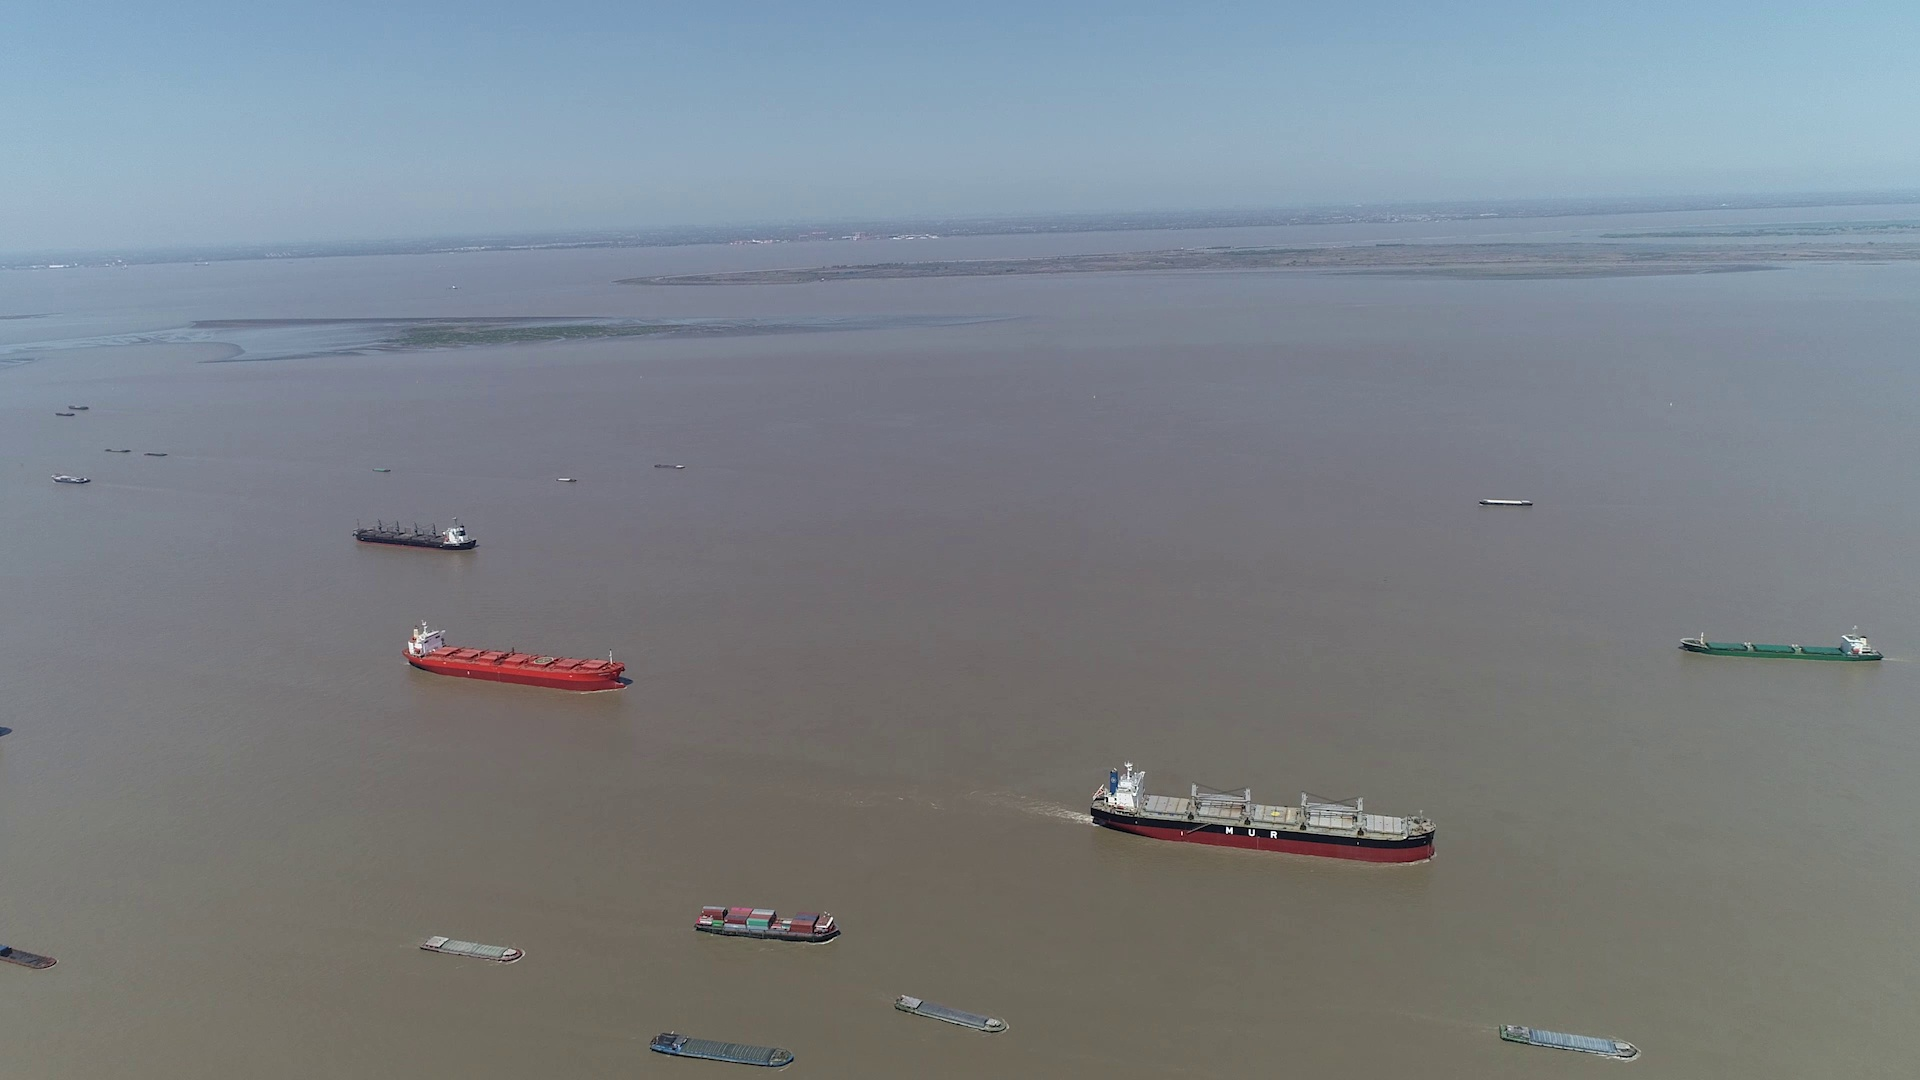ship: (1093, 765, 1435, 862), (405, 622, 626, 692), (1680, 628, 1880, 661), (694, 905, 839, 943), (1495, 1023, 1640, 1062), (651, 1033, 796, 1071), (895, 996, 1007, 1036), (353, 516, 477, 550), (421, 934, 526, 963), (1, 939, 57, 971), (1478, 498, 1534, 508), (51, 473, 91, 484)
